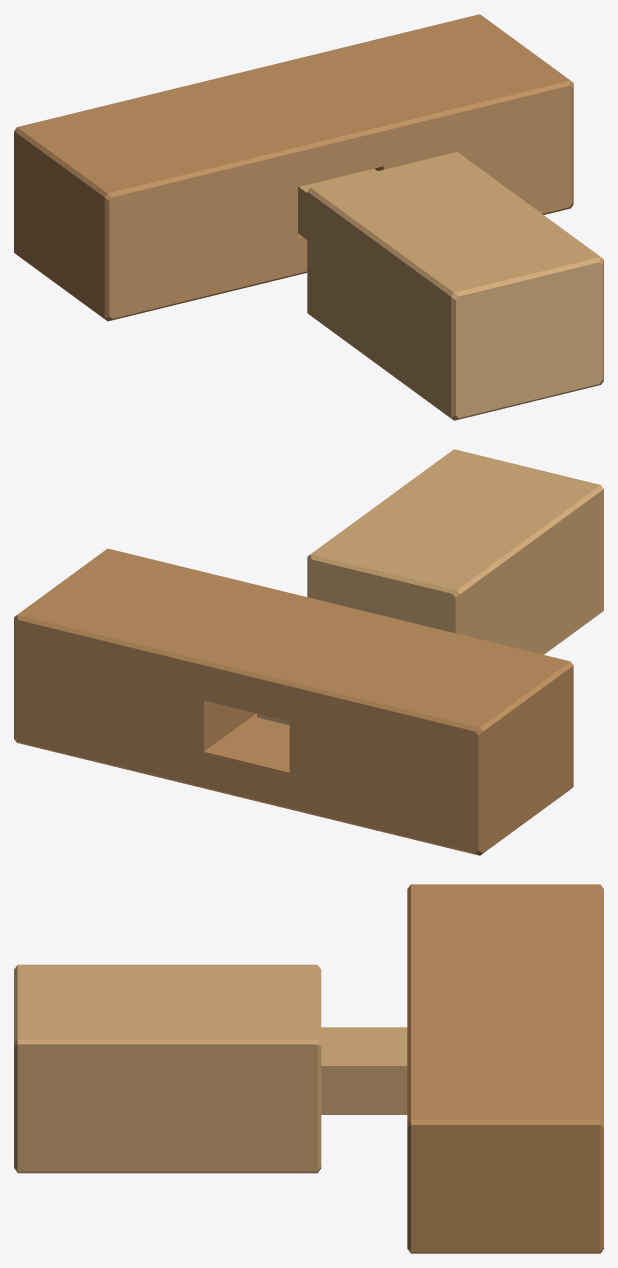
The picture shows the model from 3 angles, top to bottom: view 1: azimuth 30°, elevation 25°; view 2: azimuth 150°, elevation 25°; view 3: azimuth 270°, elevation 25°; orthographic projection. The views are drawn at different scales.
Parts seen in each view (by area): view 1: Receiver_ContinuousThroughMortise, Male_IntegralShoulderedTenon; view 2: Receiver_ContinuousThroughMortise, Male_IntegralShoulderedTenon; view 3: Receiver_ContinuousThroughMortise, Male_IntegralShoulderedTenon.
Part boxes in pixels (box(x1,y1,x2,y2)): Receiver_ContinuousThroughMortise: box(14, 14, 573, 321); Male_IntegralShoulderedTenon: box(298, 152, 603, 420); Receiver_ContinuousThroughMortise: box(14, 548, 573, 855); Male_IntegralShoulderedTenon: box(257, 449, 603, 725); Receiver_ContinuousThroughMortise: box(407, 884, 603, 1253); Male_IntegralShoulderedTenon: box(14, 964, 407, 1173).
Size of the model in its own units: 0.46 by 0.12 by 0.48.
